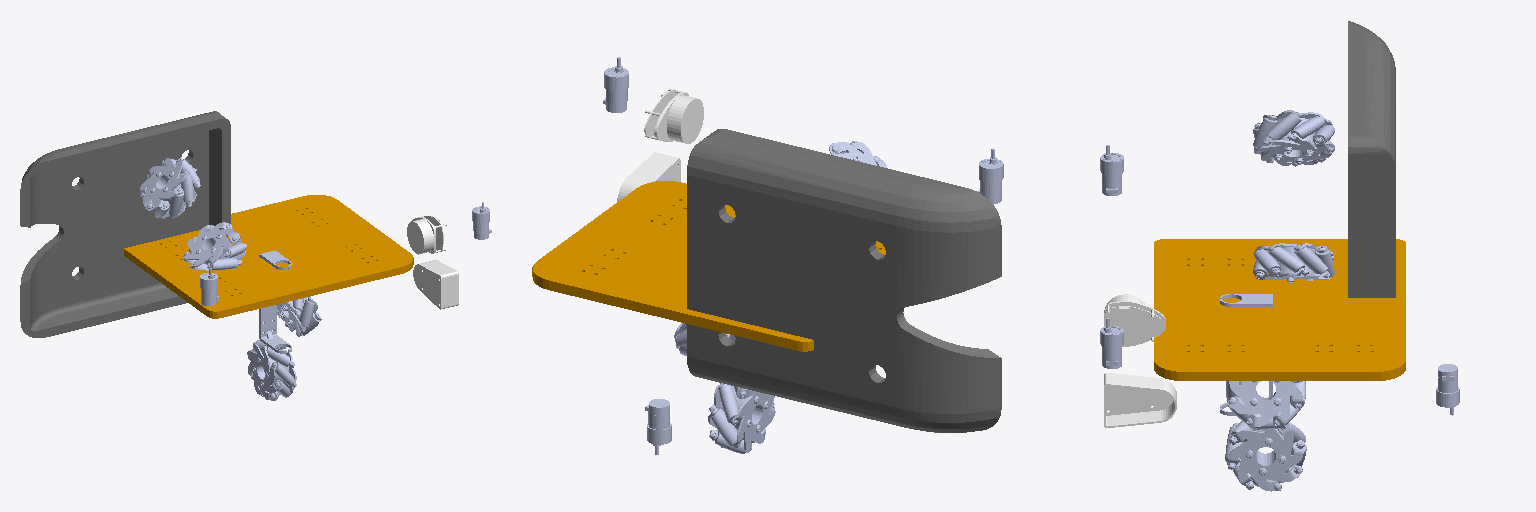
--- Facts derived from the render (not from the file) ---
3 views of the same robot in one strip: view 1: azimuth 30°, elevation 25°; view 2: azimuth 150°, elevation 25°; view 3: azimuth 270°, elevation 25° (orthographic).
Model prototip_2904 with 18 links and 17 joints (4 continuous, 1 prismatic, 12 fixed), rooted at base_link, posed every joint at zero.
Links seen in each view (by area): view 1: Coberta_Link, base_link, R2_Link, R1_Link, L1_Link, SuportLidar_Link, Lidar_Link, L2_Link, SuportCentre1_Link, MR2_Link, MR1_Link; view 2: Coberta_Link, base_link, L1_Link, Lidar_Link, SuportLidar_Link, MR1_Link, MR2_Link, ML2_Link, R2_Link; view 3: base_link, Coberta_Link, L1_Link, R2_Link, SuportLidar_Link, L2_Link, R1_Link, Lidar_Link, MR2_Link, MR1_Link, SuportCentre1_Link.
Boxes of the visible links, box(x1,y1,x2,y2) form: Coberta_Link: box(20, 111, 230, 337); base_link: box(124, 195, 413, 318); R2_Link: box(140, 158, 200, 219); R1_Link: box(183, 222, 246, 270); L1_Link: box(247, 340, 296, 400); SuportLidar_Link: box(413, 260, 458, 309); Lidar_Link: box(407, 215, 446, 254); L2_Link: box(277, 296, 321, 336); SuportCentre1_Link: box(259, 252, 291, 353); MR2_Link: box(200, 268, 218, 305); MR1_Link: box(472, 202, 491, 239); Coberta_Link: box(687, 129, 1001, 432); base_link: box(532, 181, 885, 351); L1_Link: box(708, 383, 775, 453); Lidar_Link: box(644, 88, 703, 143); SuportLidar_Link: box(617, 152, 680, 201); MR1_Link: box(603, 57, 628, 112); MR2_Link: box(977, 148, 1003, 204); ML2_Link: box(645, 399, 671, 454); R2_Link: box(829, 141, 886, 167); base_link: box(1154, 239, 1405, 380); Coberta_Link: box(1348, 21, 1395, 297); L1_Link: box(1225, 421, 1306, 491); R2_Link: box(1253, 110, 1334, 166); SuportLidar_Link: box(1104, 373, 1176, 427); L2_Link: box(1226, 381, 1305, 428); R1_Link: box(1253, 243, 1334, 283); Lidar_Link: box(1104, 294, 1165, 346); MR2_Link: box(1100, 145, 1123, 195); MR1_Link: box(1100, 318, 1123, 368); SuportCentre1_Link: box(1220, 294, 1272, 415).
Size in the robot's own frame: 0.8995 by 0.5679 by 0.591 metres.
14 mesh visuals loaded from 18 distinct referenced files (14 binary STL); not drawn: 4 (reference not matched to a file when rendering).

The robot description file, URDF, robot "prototip_2904":
<?xml version="1.0" encoding="utf-8"?>
<!-- This URDF was automatically created by SolidWorks to URDF Exporter! Originally created by Stephen Brawner ([email redacted]) 
     Commit Version: 1.6.0-1-g15f4949  Build Version: 1.6.7594.29634
     For more information, please see http://wiki.ros.org/sw_urdf_exporter -->
<robot
  name="prototip_2904">
  <link
    name="base_link">
    <inertial>
      <origin
        xyz="0.027358779894703 -0.0197603692535836 -0.100882644576948"
        rpy="0 0 0" />
      <mass
        value="3.18539354368186" />
      <inertia
        ixx="0.0106842818448098"
        ixy="-5.71916645986104E-18"
        ixz="-7.33657587264312E-18"
        iyy="0.0166285557560687"
        iyz="-1.02898300437928E-07"
        izz="0.0271752644394761" />
    </inertial>
    <visual>
      <origin
        xyz="0 0 0"
        rpy="0 0 0" />
      <geometry>
        <mesh
          filename="package://prototip_2904/meshes/base_link.STL" />
      </geometry>
      <material
        name="yellow"/>
    </visual>
    <collision>
      <origin
        xyz="0 0 0"
        rpy="0 0 0" />
      <geometry>
        <mesh
          filename="package://prototip_2904/meshes/base_link.STL" />
      </geometry>
    </collision>
  </link>
  <link
    name="R1_Link">
    <inertial>
      <origin
        xyz="-1.138E-15 -1.3878E-16 0.026605"
        rpy="0 0 0" />
      <mass
        value="0.10143" />
      <inertia
        ixx="1.7366E-05"
        ixy="9.2936E-18"
        ixz="-2.8624E-18"
        iyy="1.7366E-05"
        iyz="1.193E-17"
        izz="2.1022E-05" />
    </inertial>
    <visual>
      <origin
        xyz="0 0 0"
        rpy="0 0 0" />
      <geometry>
        <mesh
          filename="package://prototip_2904/meshes/R1_Link.STL" />
      </geometry>
      <material
        name="">
        <color
          rgba="0.79216 0.81961 0.93333 1" />
      </material>
    </visual>
    <collision>
      <origin
        xyz="0 0 0"
        rpy="0 0 0" />
      <geometry>
        <mesh
          filename="package://prototip_2904/meshes/R1_Link.STL" />
      </geometry>
    </collision>
  </link>
  <joint
    name="joint_R1"
    type="continuous">
    <origin
      xyz="0.19024 -0.17854 -0.15093"
      rpy="-1.5708 0.58045 3.1416" />
    <parent
      link="base_link" />
    <child
      link="R1_Link" />
    <axis
      xyz="0 0 1" />
  </joint>
  <link
    name="L1_Link">
    <inertial>
      <origin
        xyz="-2.91433543964104E-15 -3.02535774210355E-15 0.0266049351953702"
        rpy="0 0 0" />
      <mass
        value="0.101433683220293" />
      <inertia
        ixx="1.73656014589032E-05"
        ixy="1.22041565831584E-18"
        ixz="3.98859767479316E-18"
        iyy="1.73656014589116E-05"
        iyz="2.51536033083007E-18"
        izz="2.10216674226564E-05" />
    </inertial>
    <visual>
      <origin
        xyz="0 0 0"
        rpy="0 0 0" />
      <geometry>
        <mesh
          filename="package://prototip_2904/meshes/L1_Link.STL" />
      </geometry>
      <material
        name="">
        <color
          rgba="0.792156862745098 0.819607843137255 0.933333333333333 1" />
      </material>
    </visual>
    <collision>
      <origin
        xyz="0 0 0"
        rpy="0 0 0" />
      <geometry>
        <mesh
          filename="package://prototip_2904/meshes/L1_Link.STL" />
      </geometry>
    </collision>
  </link>
  <joint
    name="joint_L1"
    type="continuous">
    <origin
      xyz="0.19024 0.13902 -0.15093"
      rpy="-1.5708 1.5286 0" />
    <parent
      link="base_link" />
    <child
      link="L1_Link" />
    <axis
      xyz="0 0 1" />
  </joint>
  <link
    name="R2_Link">
    <inertial>
      <origin
        xyz="2.22044604925031E-15 -6.93889390390723E-16 0.0266049351956469"
        rpy="0 0 0" />
      <mass
        value="0.101433683215874" />
      <inertia
        ixx="1.73656014588276E-05"
        ixy="-3.60243112467254E-18"
        ixz="-9.16323392260164E-18"
        iyy="1.73656014588365E-05"
        iyz="2.27555013761854E-17"
        izz="2.10216674226847E-05" />
    </inertial>
    <visual>
      <origin
        xyz="0 0 0"
        rpy="0 0 0" />
      <geometry>
        <mesh
          filename="package://prototip_2904/meshes/R2_Link.STL" />
      </geometry>
      <material
        name="">
        <color
          rgba="0.792156862745098 0.819607843137255 0.933333333333333 1" />
      </material>
    </visual>
    <collision>
      <origin
        xyz="0 0 0"
        rpy="0 0 0" />
      <geometry>
        <mesh
          filename="package://prototip_2904/meshes/R2_Link.STL" />
      </geometry>
    </collision>
  </link>
  <joint
    name="joint_R2"
    type="continuous">
    <origin
      xyz="-0.13336 -0.17854 -0.15093"
      rpy="-1.5708 0.79452 3.1416" />
    <parent
      link="base_link" />
    <child
      link="R2_Link" />
    <axis
      xyz="0 0 1" />
  </joint>
  <link
    name="L2_Link">
    <inertial>
      <origin
        xyz="-2.77555756156289E-17 1.11022302462516E-16 0.0266049351954913"
        rpy="0 0 0" />
      <mass
        value="0.101433683216509" />
      <inertia
        ixx="1.73656014587943E-05"
        ixy="3.81842452622239E-18"
        ixz="-7.11348460007026E-18"
        iyy="1.73656014587947E-05"
        iyz="-8.24630865852679E-18"
        izz="2.10216674226438E-05" />
    </inertial>
    <visual>
      <origin
        xyz="0 0 0"
        rpy="0 0 0" />
      <geometry>
        <mesh
          filename="package://prototip_2904/meshes/L2_Link.STL" />
      </geometry>
      <material
        name="">
        <color
          rgba="0.792156862745098 0.819607843137255 0.933333333333333 1" />
      </material>
    </visual>
    <collision>
      <origin
        xyz="0 0 0"
        rpy="0 0 0" />
      <geometry>
        <mesh
          filename="package://prototip_2904/meshes/L2_Link.STL" />
      </geometry>
    </collision>
  </link>
  <joint
    name="joint_L2"
    type="continuous">
    <origin
      xyz="-0.13336 0.13902 -0.15093"
      rpy="1.5708 -1.2194 3.1416" />
    <parent
      link="base_link" />
    <child
      link="L2_Link" />
    <axis
      xyz="0 0 1" />
  </joint>
  <link
    name="SuportCentre1_Link">
    <inertial>
      <origin
        xyz="0.0185 0.0481538712864173 -0.0980000000000001"
        rpy="0 0 0" />
      <mass
        value="0.0536307879572357" />
      <inertia
        ixx="0.000239710306368585"
        ixy="5.09851701757735E-20"
        ixz="1.05872033629026E-11"
        iyy="0.000240795903477881"
        iyz="-3.79018546536177E-20"
        izz="1.14661974393378E-05" />
    </inertial>
    <visual>
      <origin
        xyz="0 0 0"
        rpy="0 0 0" />
      <geometry>
        <mesh
          filename="package://prototip_2904/meshes/SuportCentre1_Link.STL" />
      </geometry>
      <material
        name="">
        <color
          rgba="0.792156862745098 0.819607843137255 0.933333333333333 1" />
      </material>
    </visual>
    <collision>
      <origin
        xyz="0 0 0"
        rpy="0 0 0" />
      <geometry>
        <mesh
          filename="package://prototip_2904/meshes/SuportCentre1_Link.STL" />
      </geometry>
    </collision>
  </link>
  <joint
    name="joint_suportCentre1"
    type="fixed">
    <origin
      xyz="0.20874 0.07824 -0.16393"
      rpy="1.5708 0 3.1416" />
    <parent
      link="base_link" />
    <child
      link="SuportCentre1_Link" />
    <axis
      xyz="0 0 0" />
  </joint>
  <link
    name="SuportCentre2_Link">
    <inertial>
      <origin
        xyz="0.0185000000000001 0.048153871286417 -0.0979999999999997"
        rpy="0 0 0" />
      <mass
        value="0.0536307879572362" />
      <inertia
        ixx="0.000239710306368588"
        ixy="8.43076589416846E-20"
        ixz="1.05872033273468E-11"
        iyy="0.000240795903477884"
        iyz="3.99292166661122E-19"
        izz="1.14661974393382E-05" />
    </inertial>
    <visual>
      <origin
        xyz="0 0 0"
        rpy="0 0 0" />
      <geometry>
        <mesh
          filename="package://prototip_2904/meshes/SuportCentre2_Link.STL" />
      </geometry>
      <material
        name="">
        <color
          rgba="0.792156862745098 0.819607843137255 0.933333333333333 1" />
      </material>
    </visual>
    <collision>
      <origin
        xyz="0 0 0"
        rpy="0 0 0" />
      <geometry>
        <mesh
          filename="package://prototip_2904/meshes/SuportCentre2_Link.STL" />
      </geometry>
    </collision>
  </link>
  <joint
    name="joint_suportCentre"
    type="fixed">
    <origin
      xyz="-0.11486 0.07824 -0.16393"
      rpy="1.5708 0 3.1416" />
    <parent
      link="base_link" />
    <child
      link="SuportCentre2_Link" />
    <axis
      xyz="0 0 0" />
  </joint>
  <link
    name="Coberta_Link">
    <inertial>
      <origin
        xyz="-0.2191568641921 -0.0423023461352811 -0.200000853356191"
        rpy="0 0 0" />
      <mass
        value="6.86550905632035" />
      <inertia
        ixx="0.110082208729017"
        ixy="-0.00168399155962838"
        ixz="6.23787142038268E-08"
        iyy="0.247996405331257"
        iyz="1.67953107757833E-07"
        izz="0.143649899899849" />
    </inertial>
    <visual>
      <origin
        xyz="0 0 0"
        rpy="0 0 0" />
      <geometry>
        <mesh
          filename="package://prototip_2904/meshes/Coberta_Link.STL" />
      </geometry>
      <material
        name="">
        <color
          rgba="0.498039215686275 0.498039215686275 0.498039215686275 1" />
      </material>
    </visual>
    <collision>
      <origin
        xyz="0 0 0"
        rpy="0 0 0" />
      <geometry>
        <mesh
          filename="package://prototip_2904/meshes/Coberta_Link.STL" />
      </geometry>
    </collision>
  </link>
  <joint
    name="joint_coberta"
    type="prismatic">
    <origin
      xyz="-0.22156 0.18024 -0.0016623"
      rpy="1.5708 0 3.1416" />
    <parent
      link="base_link" />
    <child
      link="Coberta_Link" />
    <axis
      xyz="0 1 0" />
    <limit
      lower="0"
      upper="0"
      effort="0"
      velocity="0" />
  </joint>
  <link
    name="SuportR1_Link">
    <inertial>
      <origin
        xyz="0.0185 -0.00908262410146318 -0.0322712123132596"
        rpy="0 0 0" />
      <mass
        value="1.88293478703683E-14" />
      <inertia
        ixx="7.80328610267101E-18"
        ixy="-8.01367003990634E-33"
        ixz="-2.32382731560208E-33"
        iyy="5.41454279349707E-18"
        iyz="-2.19454525578505E-18"
        izz="6.51550874913411E-18" />
    </inertial>
    <visual>
      <origin
        xyz="0 0 0"
        rpy="0 0 0" />
      <geometry>
        <mesh
          filename="package://prototip_2904/meshes/SuportR1_Link.STL" />
      </geometry>
      <material
        name="">
        <color
          rgba="0.792156862745098 0.819607843137255 0.933333333333333 1" />
      </material>
    </visual>
    <collision>
      <origin
        xyz="0 0 0"
        rpy="0 0 0" />
      <geometry>
        <mesh
          filename="package://prototip_2904/meshes/SuportR1_Link.STL" />
      </geometry>
    </collision>
  </link>
  <joint
    name="joint_suportR1"
    type="fixed">
    <origin
      xyz="0.20874 -0.13251 -0.11493"
      rpy="1.5708 0 3.1416" />
    <parent
      link="base_link" />
    <child
      link="SuportR1_Link" />
    <axis
      xyz="0 0 0" />
  </joint>
  <link
    name="SuportL1_Link">
    <inertial>
      <origin
        xyz="0.0185 -0.00908262410146315 -0.0322712123132596"
        rpy="0 0 0" />
      <mass
        value="1.88293478703682E-14" />
      <inertia
        ixx="7.803286102671E-18"
        ixy="3.0959833975071E-33"
        ixz="2.02097825736474E-33"
        iyy="5.41454279349707E-18"
        iyz="-2.19454525578505E-18"
        izz="6.51550874913411E-18" />
    </inertial>
    <visual>
      <origin
        xyz="0 0 0"
        rpy="0 0 0" />
      <geometry>
        <mesh
          filename="package://prototip_2904/meshes/SuportL1_Link.STL" />
      </geometry>
      <material
        name="">
        <color
          rgba="0.792156862745098 0.819607843137255 0.933333333333333 1" />
      </material>
    </visual>
    <collision>
      <origin
        xyz="0 0 0"
        rpy="0 0 0" />
      <geometry>
        <mesh
          filename="package://prototip_2904/meshes/SuportL1_Link.STL" />
      </geometry>
    </collision>
  </link>
  <joint
    name="joint_suportL1"
    type="fixed">
    <origin
      xyz="0.17174 0.09299 -0.11493"
      rpy="1.5708 0 0" />
    <parent
      link="base_link" />
    <child
      link="SuportL1_Link" />
    <axis
      xyz="0 0 0" />
  </joint>
  <link
    name="SuportR2_Link">
    <inertial>
      <origin
        xyz="0.0185 -0.00908262410146317 -0.0322712123132596"
        rpy="0 0 0" />
      <mass
        value="1.88293478703683E-14" />
      <inertia
        ixx="7.80328610267102E-18"
        ixy="-1.76860129033217E-33"
        ixz="2.50608713016688E-35"
        iyy="5.41454279349707E-18"
        iyz="-2.19454525578505E-18"
        izz="6.51550874913413E-18" />
    </inertial>
    <visual>
      <origin
        xyz="0 0 0"
        rpy="0 0 0" />
      <geometry>
        <mesh
          filename="package://prototip_2904/meshes/SuportR2_Link.STL" />
      </geometry>
      <material
        name="">
        <color
          rgba="0.792156862745098 0.819607843137255 0.933333333333333 1" />
      </material>
    </visual>
    <collision>
      <origin
        xyz="0 0 0"
        rpy="0 0 0" />
      <geometry>
        <mesh
          filename="package://prototip_2904/meshes/SuportR2_Link.STL" />
      </geometry>
    </collision>
  </link>
  <joint
    name="joint_suportR2"
    type="fixed">
    <origin
      xyz="-0.11486 -0.13251 -0.11493"
      rpy="1.5708 0 3.1416" />
    <parent
      link="base_link" />
    <child
      link="SuportR2_Link" />
    <axis
      xyz="0 0 0" />
  </joint>
  <link
    name="SuportL2_Link">
    <inertial>
      <origin
        xyz="0.0185 -0.00908262410146314 -0.0322712123132596"
        rpy="0 0 0" />
      <mass
        value="1.88293478703682E-14" />
      <inertia
        ixx="7.80328610267099E-18"
        ixy="4.46479051046065E-33"
        ixz="7.28647099128006E-33"
        iyy="5.41454279349706E-18"
        iyz="-2.19454525578504E-18"
        izz="6.5155087491341E-18" />
    </inertial>
    <visual>
      <origin
        xyz="0 0 0"
        rpy="0 0 0" />
      <geometry>
        <mesh
          filename="package://prototip_2904/meshes/SuportL2_Link.STL" />
      </geometry>
      <material
        name="">
        <color
          rgba="0.792156862745098 0.819607843137255 0.933333333333333 1" />
      </material>
    </visual>
    <collision>
      <origin
        xyz="0 0 0"
        rpy="0 0 0" />
      <geometry>
        <mesh
          filename="package://prototip_2904/meshes/SuportL2_Link.STL" />
      </geometry>
    </collision>
  </link>
  <joint
    name="joint_suportL2"
    type="fixed">
    <origin
      xyz="-0.15186 0.09299 -0.11493"
      rpy="1.5708 0 0" />
    <parent
      link="base_link" />
    <child
      link="SuportL2_Link" />
    <axis
      xyz="0 0 0" />
  </joint>
  <link
    name="MR1_Link">
    <inertial>
      <origin
        xyz="0.000125294788847569 0.000150084868448225 -0.0323957923521485"
        rpy="0 0 0" />
      <mass
        value="0.0568898396886143" />
      <inertia
        ixx="2.16430504132729E-05"
        ixy="7.24126643727964E-10"
        ixz="-1.5609549027946E-07"
        iyy="2.17113865023018E-05"
        iyz="1.74927784904528E-07"
        izz="8.51339721047066E-06" />
    </inertial>
    <visual>
      <origin
        xyz="0 0 0"
        rpy="0 0 0" />
      <geometry>
        <mesh
          filename="package://prototip_2904/meshes/MR1_Link.STL" />
      </geometry>
      <material
        name="">
        <color
          rgba="0.792156862745098 0.819607843137255 0.933333333333333 1" />
      </material>
    </visual>
    <collision>
      <origin
        xyz="0 0 0"
        rpy="0 0 0" />
      <geometry>
        <mesh
          filename="package://prototip_2904/meshes/MR1_Link.STL" />
      </geometry>
    </collision>
  </link>
  <joint
    name="joint_MR1"
    type="fixed">
    <origin
      xyz="0.19024 -0.11131 -0.14393"
      rpy="-1.5708 0 0" />
    <parent
      link="base_link" />
    <child
      link="MR1_Link" />
    <axis
      xyz="0 0 0" />
  </joint>
  <link
    name="ML1_Link">
    <inertial>
      <origin
        xyz="0.000125294788847624 0.00015008486844828 -0.0323957923521486"
        rpy="0 0 0" />
      <mass
        value="0.0568898396886143" />
      <inertia
        ixx="2.16430504132729E-05"
        ixy="7.24126643729239E-10"
        ixz="-1.56095490279456E-07"
        iyy="2.17113865023019E-05"
        iyz="1.74927784904539E-07"
        izz="8.51339721047067E-06" />
    </inertial>
    <visual>
      <origin
        xyz="0 0 0"
        rpy="0 0 0" />
      <geometry>
        <mesh
          filename="package://prototip_2904/meshes/ML1_Link.STL" />
      </geometry>
      <material
        name="">
        <color
          rgba="0.792156862745098 0.819607843137255 0.933333333333333 1" />
      </material>
    </visual>
    <collision>
      <origin
        xyz="0 0 0"
        rpy="0 0 0" />
      <geometry>
        <mesh
          filename="package://prototip_2904/meshes/ML1_Link.STL" />
      </geometry>
    </collision>
  </link>
  <joint
    name="joint_ML1"
    type="fixed">
    <origin
      xyz="0.19024 0.07179 -0.14393"
      rpy="-1.5708 0 3.1416" />
    <parent
      link="base_link" />
    <child
      link="ML1_Link" />
    <axis
      xyz="0 0 0" />
  </joint>
  <link
    name="MR2_Link">
    <inertial>
      <origin
        xyz="0.000125294788847541 0.00015008486844828 -0.0323957923521486"
        rpy="0 0 0" />
      <mass
        value="0.0568898396886143" />
      <inertia
        ixx="2.16430504132729E-05"
        ixy="7.24126643728097E-10"
        ixz="-1.56095490279478E-07"
        iyy="2.17113865023018E-05"
        iyz="1.74927784904533E-07"
        izz="8.51339721047066E-06" />
    </inertial>
    <visual>
      <origin
        xyz="0 0 0"
        rpy="0 0 0" />
      <geometry>
        <mesh
          filename="package://prototip_2904/meshes/MR2_Link.STL" />
      </geometry>
      <material
        name="">
        <color
          rgba="0.792156862745098 0.819607843137255 0.933333333333333 1" />
      </material>
    </visual>
    <collision>
      <origin
        xyz="0 0 0"
        rpy="0 0 0" />
      <geometry>
        <mesh
          filename="package://prototip_2904/meshes/MR2_Link.STL" />
      </geometry>
    </collision>
  </link>
  <joint
    name="joint_MR2"
    type="fixed">
    <origin
      xyz="-0.13336 -0.11131 -0.14393"
      rpy="-1.5708 0 0" />
    <parent
      link="base_link" />
    <child
      link="MR2_Link" />
    <axis
      xyz="0 0 0" />
  </joint>
  <link
    name="ML2_Link">
    <inertial>
      <origin
        xyz="0.000125294788847624 0.000150084868448308 -0.0323957923521486"
        rpy="0 0 0" />
      <mass
        value="0.0568898396886143" />
      <inertia
        ixx="2.16430504132729E-05"
        ixy="7.24126643728438E-10"
        ixz="-1.56095490279455E-07"
        iyy="2.17113865023018E-05"
        iyz="1.74927784904533E-07"
        izz="8.51339721047066E-06" />
    </inertial>
    <visual>
      <origin
        xyz="0 0 0"
        rpy="0 0 0" />
      <geometry>
        <mesh
          filename="package://prototip_2904/meshes/ML2_Link.STL" />
      </geometry>
      <material
        name="">
        <color
          rgba="0.792156862745098 0.819607843137255 0.933333333333333 1" />
      </material>
    </visual>
    <collision>
      <origin
        xyz="0 0 0"
        rpy="0 0 0" />
      <geometry>
        <mesh
          filename="package://prototip_2904/meshes/ML2_Link.STL" />
      </geometry>
    </collision>
  </link>
  <joint
    name="joint_ML2"
    type="fixed">
    <origin
      xyz="-0.13336 0.07179 -0.14393"
      rpy="-1.5708 0 3.1416" />
    <parent
      link="base_link" />
    <child
      link="ML2_Link" />
    <axis
      xyz="0 0 0" />
  </joint>
  <link
    name="SuportLidar_Link">
    <inertial>
      <origin
        xyz="-2.08492539739702E-07 0.0609835303237017 -0.000258664711631357"
        rpy="0 0 0" />
      <mass
        value="0.0564547441810421" />
      <inertia
        ixx="6.8579601402247E-05"
        ixy="3.70475771580666E-11"
        ixz="6.67840319699474E-10"
        iyy="8.65277926510307E-05"
        iyz="-1.31273057631923E-06"
        izz="2.59150144946133E-05" />
    </inertial>
    <visual>
      <origin
        xyz="0 0 0"
        rpy="0 0 0" />
      <geometry>
        <mesh
          filename="package://prototip_2904/meshes/SuportLidar_Link.STL" />
      </geometry>
      <material
        name="">
        <color
          rgba="1 1 1 1" />
      </material>
    </visual>
    <collision>
      <origin
        xyz="0 0 0"
        rpy="0 0 0" />
      <geometry>
        <mesh
          filename="package://prototip_2904/meshes/SuportLidar_Link.STL" />
      </geometry>
    </collision>
  </link>
  <joint
    name="joint_SuportLidar"
    type="fixed">
    <origin
      xyz="0.22761 -0.01976 -0.11283"
      rpy="1.5708 0 -1.5708" />
    <parent
      link="base_link" />
    <child
      link="SuportLidar_Link" />
    <axis
      xyz="0 0 0" />
  </joint>
  <link
    name="Lidar_Link">
    <inertial>
      <origin
        xyz="0 0 0"
        rpy="0 0 0" />
      <mass
        value="0" />
      <inertia
        ixx="0"
        ixy="0"
        ixz="0"
        iyy="0"
        iyz="0"
        izz="0" />
    </inertial>
    <visual>
      <origin
        xyz="0 0 0"
        rpy="0 0 0" />
      <geometry>
        <mesh
          filename="package://prototip_2904/meshes/Lidar_Link.STL" />
      </geometry>
      <material
        name="">
        <color
          rgba="1 1 1 1" />
      </material>
    </visual>
    <collision>
      <origin
        xyz="0 0 0"
        rpy="0 0 0" />
      <geometry>
        <mesh
          filename="package://prototip_2904/meshes/Lidar_Link.STL" />
      </geometry>
    </collision>
  </link>
  <joint
    name="joint_lidar"
    type="fixed">
    <origin
      xyz="0.243440986234762 -0.019760369253584 0.00866735542305185"
      rpy="1.5707963267949 0 -1.5707963267949" />
    <parent
      link="base_link" />
    <child
      link="Lidar_Link" />
    <axis
      xyz="0 0 0" />
  </joint>
  <!-- All static links get collapsed down to base_link in Gazebo, so that's
       the one to apply the colour to (in Gazebo 5+). -->
  <gazebo reference="base_link">
    <material>Gazebo/Orange</material>
    <gravity>true</gravity>
  </gazebo>
  <gazebo reference="R1_link">
    <material>Gazebo/Black</material>
    <mu1>0.0</mu1>
    <mu2>0.0</mu2>
  </gazebo>
  <gazebo reference="L1_link">
    <material>Gazebo/Black</material>
    <mu1>0.0</mu1>
    <mu2>0.0</mu2>
  </gazebo>
  <gazebo reference="R2_link">
    <material>Gazebo/Black</material>
    <mu1>0.0</mu1>
    <mu2>0.0</mu2>
  </gazebo>
  <gazebo reference="L2_link">
    <material>Gazebo/Black</material>
    <mu1>0.0</mu1>
    <mu2>0.0</mu2>
  </gazebo>
  <gazebo reference="SuportCentre1_Link">
    <material>Gazebo/Black</material>
    <gravity>true</gravity>
  </gazebo>
  <gazebo reference="SuportCentre2_Link">
    <material>Gazebo/Black</material>
    <gravity>true</gravity>
  </gazebo>
  <gazebo reference="Coberta_Link">
    <material>Gazebo/DarkGrey</material>
    <gravity>true</gravity>
  </gazebo>
  <gazebo reference="SuportR1_Link">
    <material>Gazebo/Black</material>
    <gravity>true</gravity>
  </gazebo>
  <gazebo reference="SuportL1_Link">
    <material>Gazebo/Black</material>
    <gravity>true</gravity>
  </gazebo>
  <gazebo reference="SuportR2_Link">
    <material>Gazebo/Black</material>
    <gravity>true</gravity>
  </gazebo>
  <gazebo reference="SuportL2_Link">
    <material>Gazebo/Black</material>
    <gravity>true</gravity>
  </gazebo>
  <gazebo reference="MR1_Link">
    <material>Gazebo/Grey</material>
    <gravity>true</gravity>
  </gazebo>
  <gazebo reference="ML1_Link">
    <material>Gazebo/Grey</material>
    <gravity>true</gravity>
  </gazebo>
  <gazebo reference="MR2_Link">
    <material>Gazebo/Grey</material>
    <gravity>true</gravity>
  </gazebo>
  <gazebo reference="ML2_Link">
    <material>Gazebo/Grey</material>
    <gravity>true</gravity>
  </gazebo>
  <gazebo reference="SuportLidar_Link">
    <material>Gazebo/White</material>
    <gravity>true</gravity>
  </gazebo>
  <gazebo reference="Lidar_Link">
    <material>Gazebo/Black</material>
    <gravity>true</gravity>
  </gazebo>
  <!-- Mecanum drive controller -->
  <gazebo>
    <!--<plugin name="gazebo_ros_control" filename="libgazebo_ros_control.so">
      <robotNamespace>/</robotNamespace>
    </plugin>-->
    <plugin filename="libnexus_ros_force_based_move.so" name="nexus_ros_force_based_move">
      <commandTopic>cmd_vel</commandTopic>
      <odometryTopic>odom</odometryTopic>
      <odometryFrame>odom</odometryFrame>
      <odometryRate>25.0</odometryRate>
      <robotBaseFrame>base_link</robotBaseFrame>
      <cmdVelTimeOut>0.25</cmdVelTimeOut>
      <publishOdometryTf>true</publishOdometryTf>
      <yaw_velocity_p_gain>1.0</yaw_velocity_p_gain>
      <x_velocity_p_gain>15.0</x_velocity_p_gain>
      <y_velocity_p_gain>15.0</y_velocity_p_gain>
      <max_x_velocity>0.6</max_x_velocity>
      <max_y_velocity>0.6</max_y_velocity>
      <max_yaw_velocity>0.5</max_yaw_velocity>
    </plugin>
  </gazebo>
</robot>
